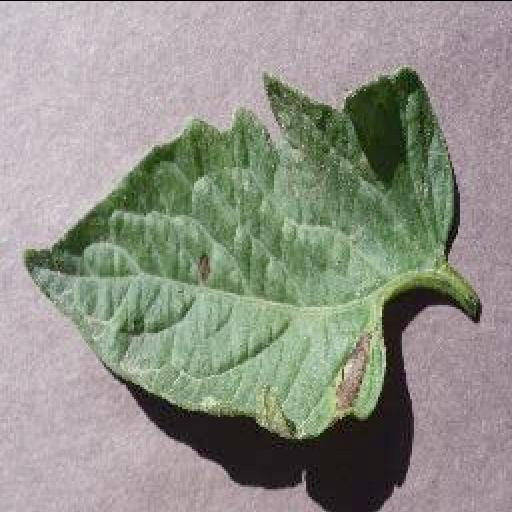Early Blight: (22, 62, 456, 438)
